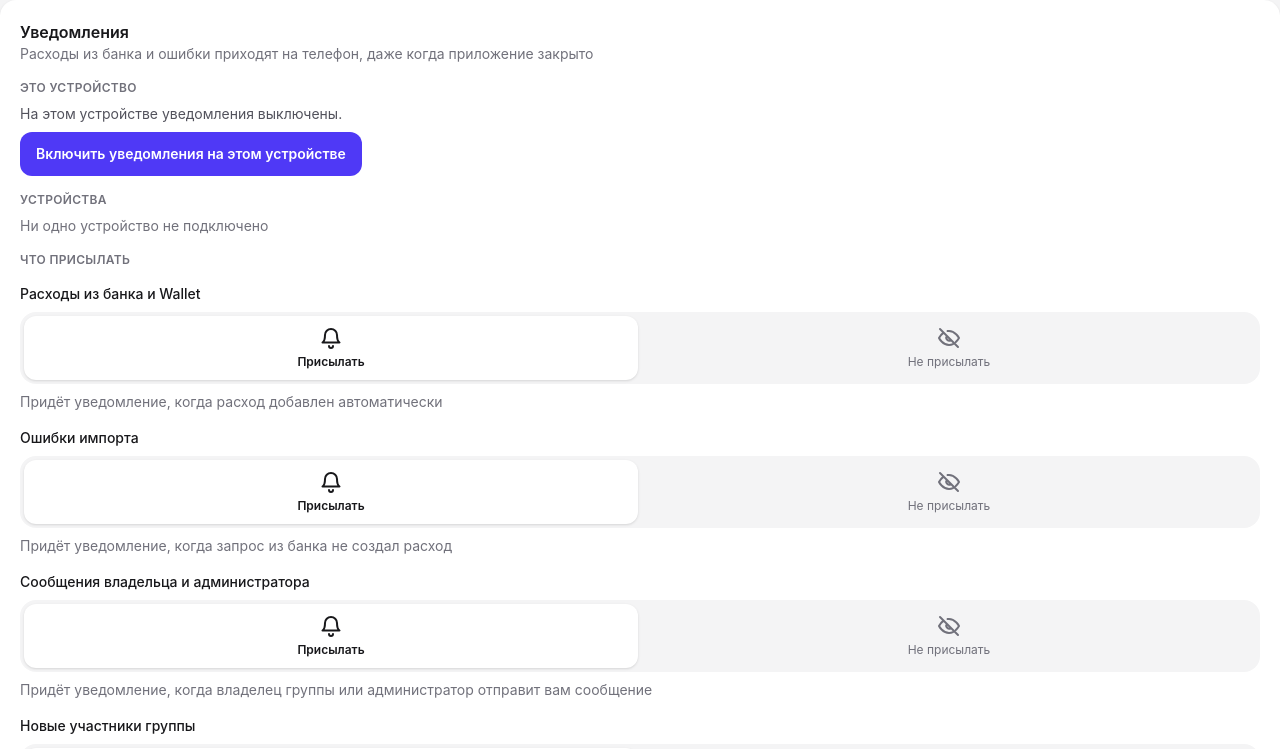
Test: включение › разрешение просят прямо в обработчике нажатия, подписка с userVisibleOnly и ключом сервера, POST с адресом, ключами и меткой
The width and height of the screenshot is (1280, 749).
Click the button "Включить уведомления на этом устройстве".
click(191, 154)  # box left=20, top=132, right=362, bottom=176
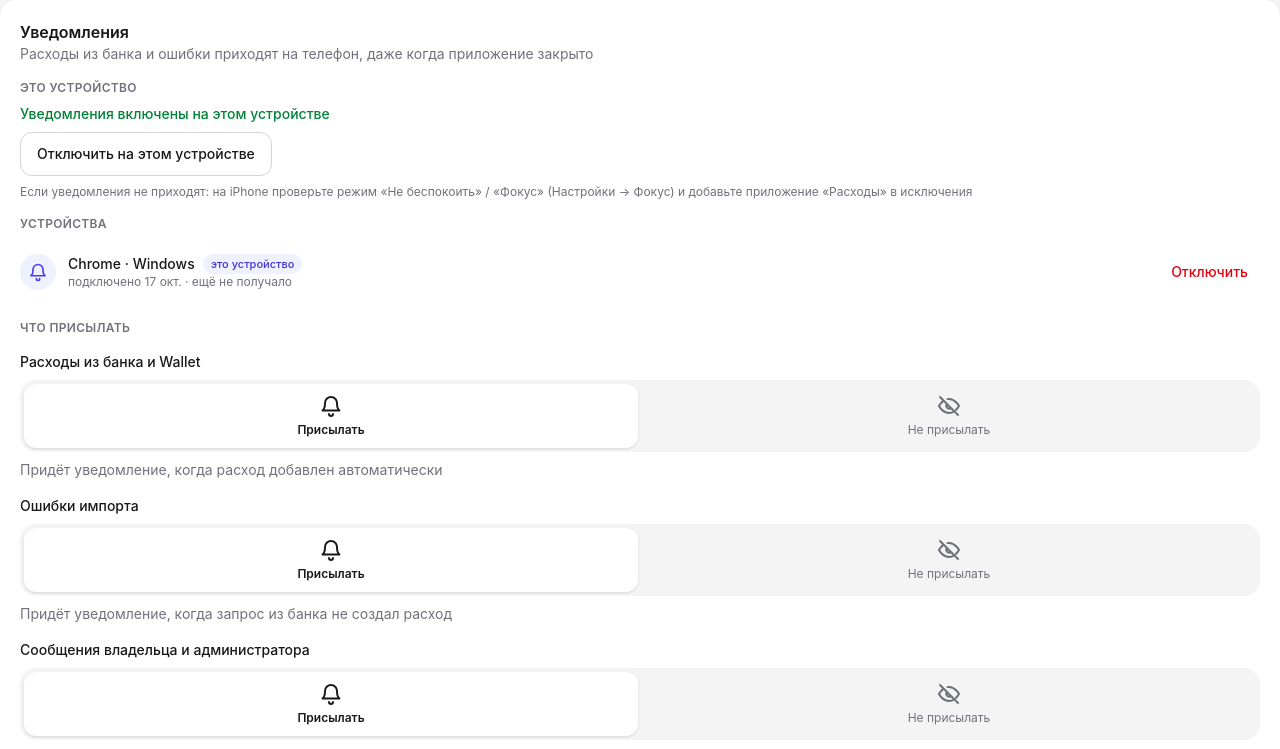
Now the text "Уведомления включены на этом устройстве" is shown, box left=20, top=105, right=330, bottom=122
